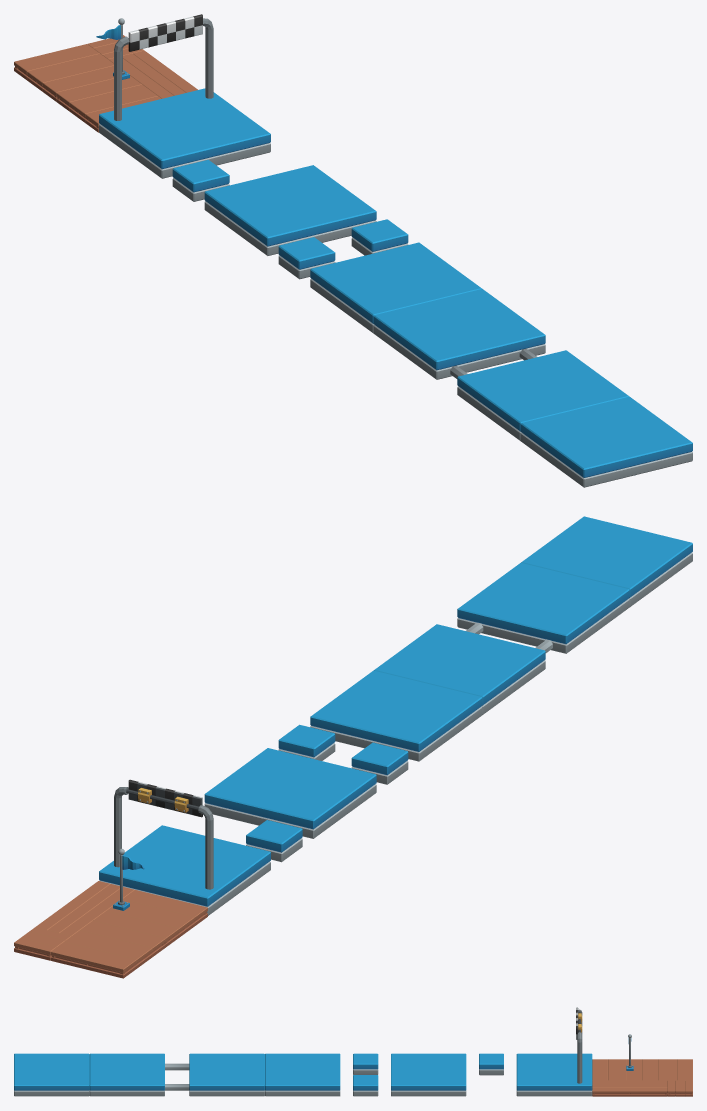
Rendered from level1.glb.
3 renders of one model, top to bottom at view 1: azimuth 30°, elevation 25°; view 2: azimuth 150°, elevation 25°; view 3: azimuth 270°, elevation 25°, orthographic. The views are drawn at different scales.
Visible parts, largest first — view 1: Start, platform_6x6x1_blue.003, platform_6x6x1_blue.006, platform_6x6x1_blue.005, platform_6x6x1_blue.002, platform_6x6x1_blue.004, floor_wood_4x4.002, End, floor_wood_2x6.001, platform_2x2x1_blue.003, platform_2x2x1_blue.004, signage_finish_board.001 (+2 smaller); view 2: platform_6x6x1_blue.002, platform_6x6x1_blue.005, platform_6x6x1_blue.004, platform_6x6x1_blue.006, platform_6x6x1_blue.003, Start, floor_wood_4x4.002, End, floor_wood_2x6.001, signage_finish.001, platform_2x2x1_blue.003, platform_2x2x1_blue.004 (+3 smaller); view 3: Start, platform_6x6x1_blue.002, platform_6x6x1_blue.004, platform_6x6x1_blue.005, platform_6x6x1_blue.003, platform_6x6x1_blue.006, floor_wood_2x6.001, floor_wood_4x4.002, End, platform_2x2x1_blue.004, platform_2x2x1_blue.002, platform_2x2x1_blue.003 (+4 smaller).
Boxes of the visible parts, x1,y1,x2,y2 form: Start: (520, 396, 692, 487); platform_6x6x1_blue.003: (373, 289, 545, 379); platform_6x6x1_blue.006: (99, 88, 270, 178); platform_6x6x1_blue.005: (204, 165, 376, 255); platform_6x6x1_blue.002: (457, 350, 629, 440); platform_6x6x1_blue.004: (310, 242, 481, 333); floor_wood_4x4.002: (14, 44, 113, 101); End: (56, 76, 161, 132); floor_wood_2x6.001: (108, 50, 197, 98); platform_2x2x1_blue.003: (278, 237, 335, 279); platform_2x2x1_blue.004: (172, 159, 229, 201); signage_finish_board.001: (128, 14, 202, 51); platform_6x6x1_blue.002: (457, 563, 629, 653); platform_6x6x1_blue.005: (204, 748, 376, 838); platform_6x6x1_blue.004: (310, 670, 482, 761); platform_6x6x1_blue.006: (99, 825, 270, 915); platform_6x6x1_blue.003: (374, 624, 545, 714); Start: (521, 516, 692, 606); floor_wood_4x4.002: (50, 921, 165, 978); End: (93, 890, 207, 947); floor_wood_2x6.001: (35, 881, 134, 936); signage_finish.001: (114, 787, 213, 889); platform_2x2x1_blue.003: (351, 742, 408, 784); platform_2x2x1_blue.004: (246, 820, 302, 862); Start: (14, 1053, 89, 1096); platform_6x6x1_blue.002: (89, 1053, 164, 1096); platform_6x6x1_blue.004: (265, 1053, 340, 1096); platform_6x6x1_blue.005: (391, 1053, 466, 1096); platform_6x6x1_blue.003: (189, 1053, 264, 1096); platform_6x6x1_blue.006: (516, 1053, 592, 1096); floor_wood_2x6.001: (592, 1080, 667, 1096); floor_wood_4x4.002: (642, 1059, 692, 1080); End: (592, 1059, 642, 1080); platform_2x2x1_blue.004: (479, 1053, 503, 1075); platform_2x2x1_blue.002: (353, 1075, 378, 1096); platform_2x2x1_blue.003: (353, 1053, 378, 1074).
Size of the model in its own units: 6 by 6 by 53.93.
Materials: 9 (9 with a texture image).
